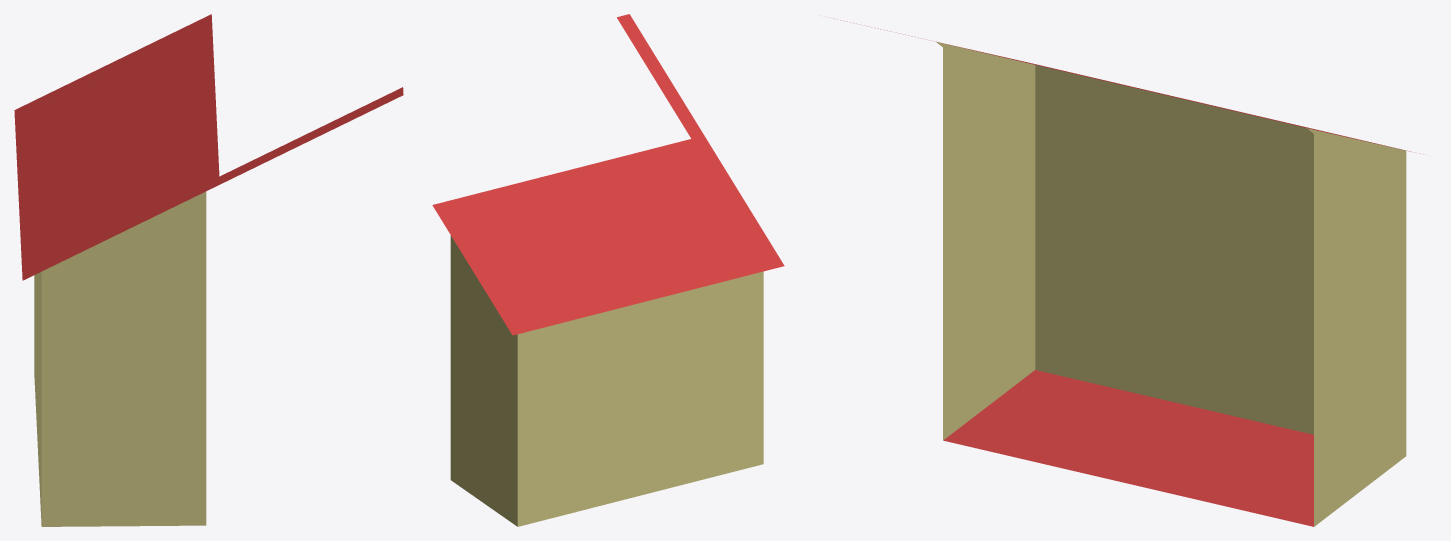
3 renders of one model, left to right at view 1: azimuth 30°, elevation 25°; view 2: azimuth 150°, elevation 25°; view 3: azimuth 270°, elevation 25°, orthographic. The views are drawn at different scales.
Bounding box in the file's own units: 9.5 × 13.88 × 12.45.
